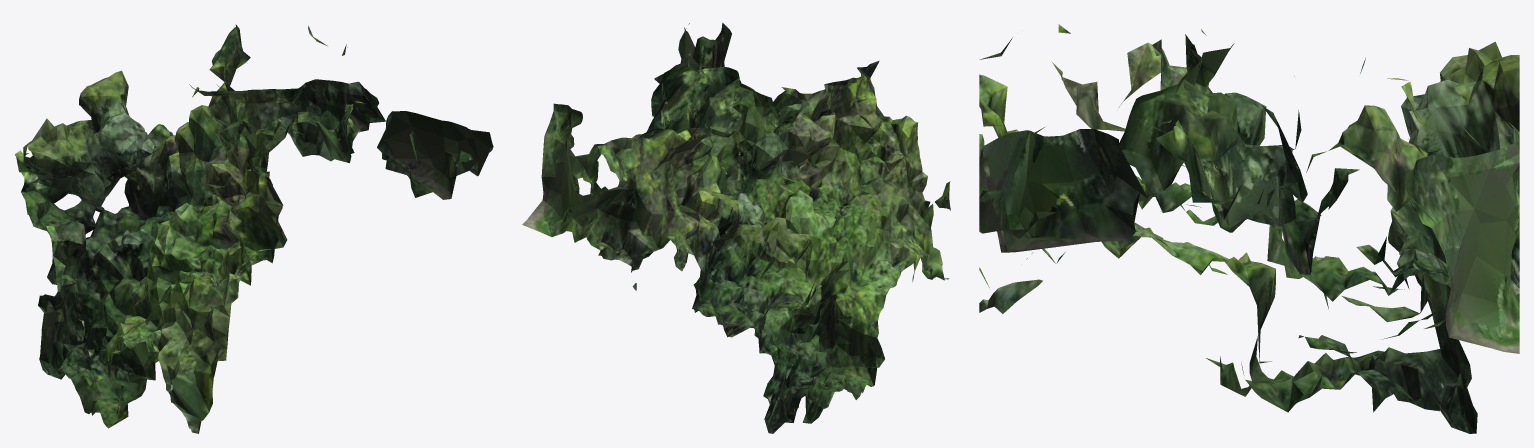
3 renders of one model, left to right at view 1: azimuth 30°, elevation 25°; view 2: azimuth 150°, elevation 25°; view 3: azimuth 270°, elevation 25°, orthographic. The views are drawn at different scales.
Size of the model in its own units: 26.11 by 23.87 by 26.11.
6 materials, 6 textured.
